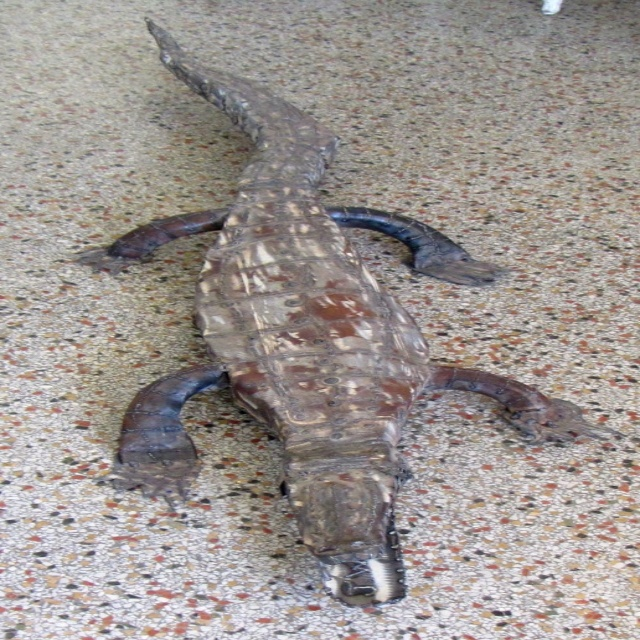Lizard: (70, 21, 612, 613)
